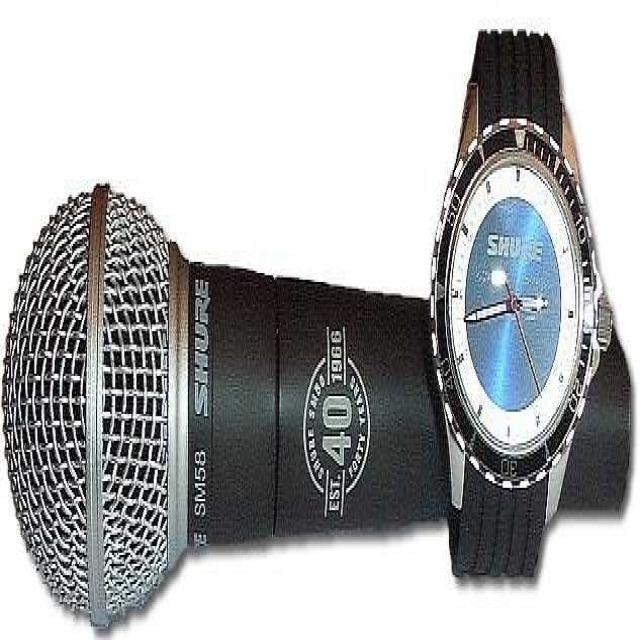microphone: (0, 176, 457, 623)
